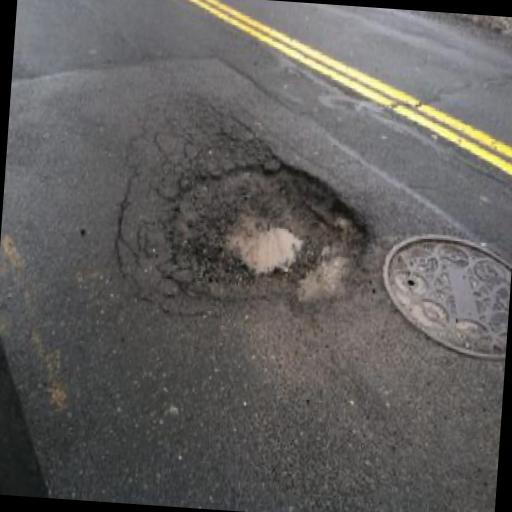pothole: (158, 148, 374, 310)
